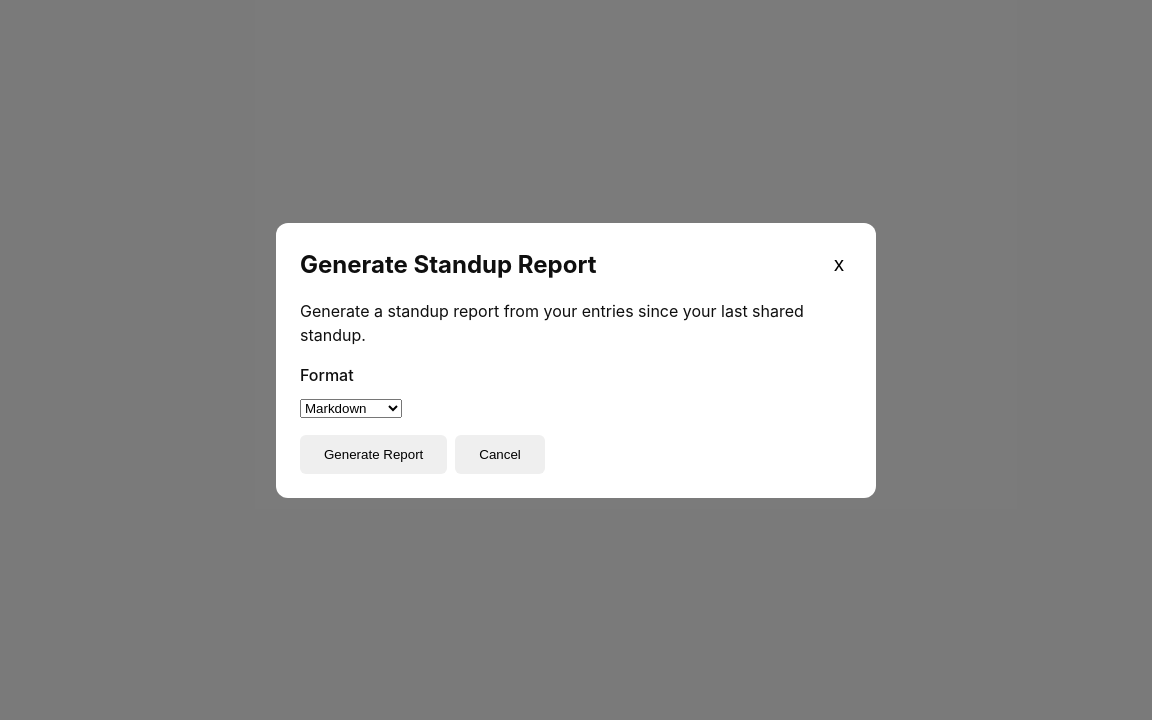
Test: StandupReport › shows copied message after successful copy
The width and height of the screenshot is (1152, 720).
What coordinates should you click on to do the following:
click the button "Generate Report"
I would click on:
 (374, 454)
Its box is [300,434,447,474].
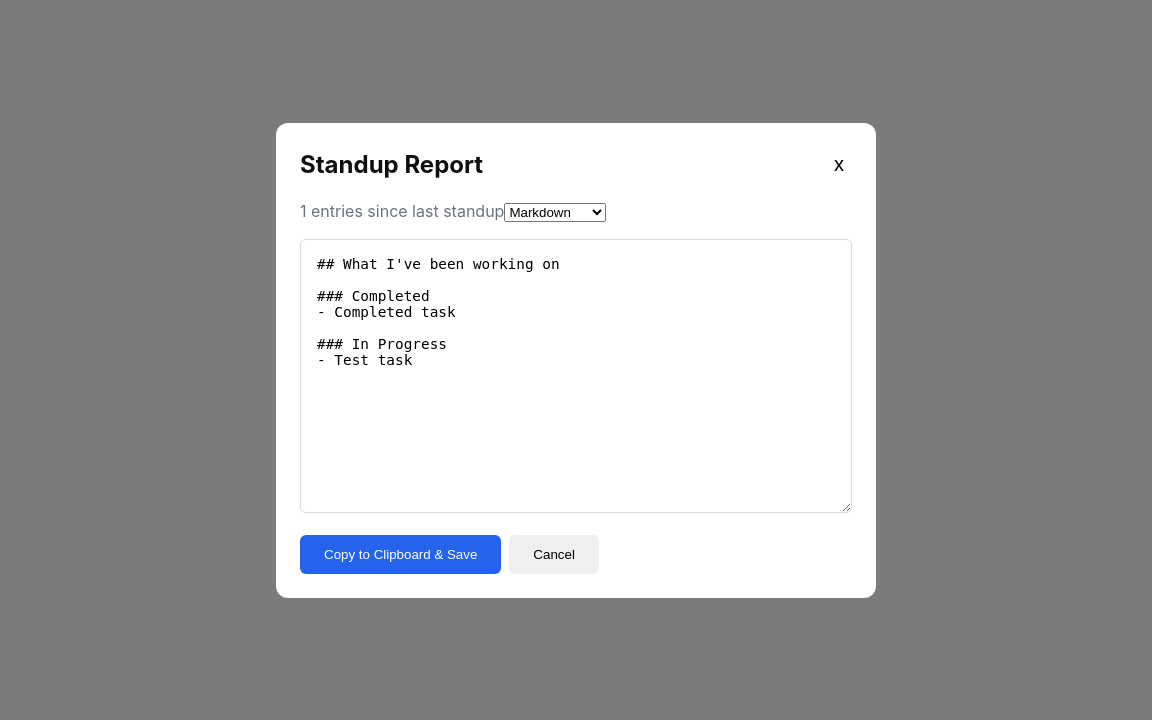
expect the button "Copy to Clipboard & Save" is shown: met
What coordinates should you click on to do the following:
click the button "Copy to Clipboard & Save"
I would click on:
 (401, 554)
Its box is [300,534,501,574].
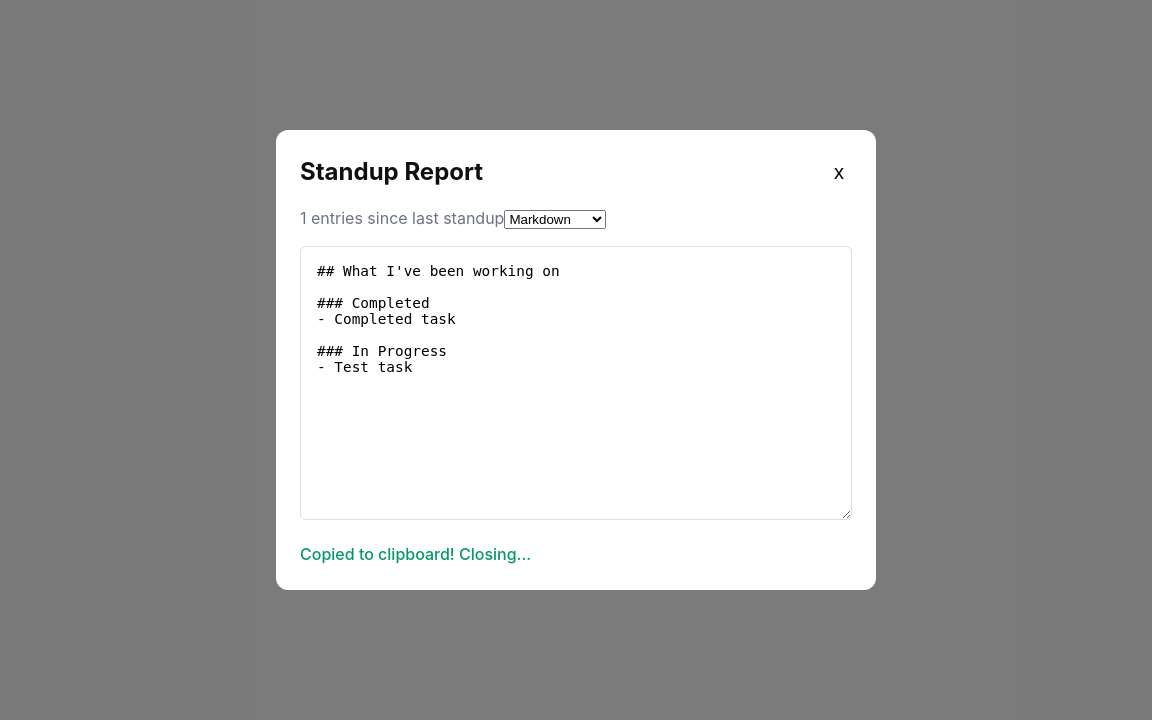
expect the text "Copied to clipboard! Closing..." is shown: met, box [300,542,531,566]
